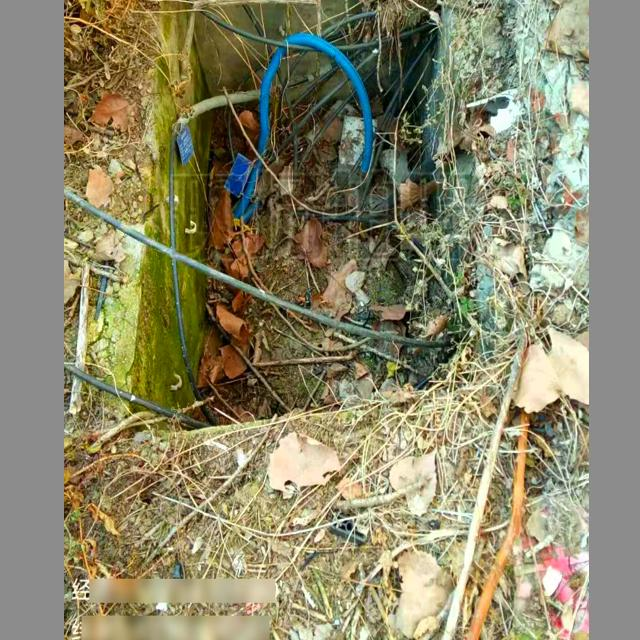lose: (126, 0, 519, 442)
